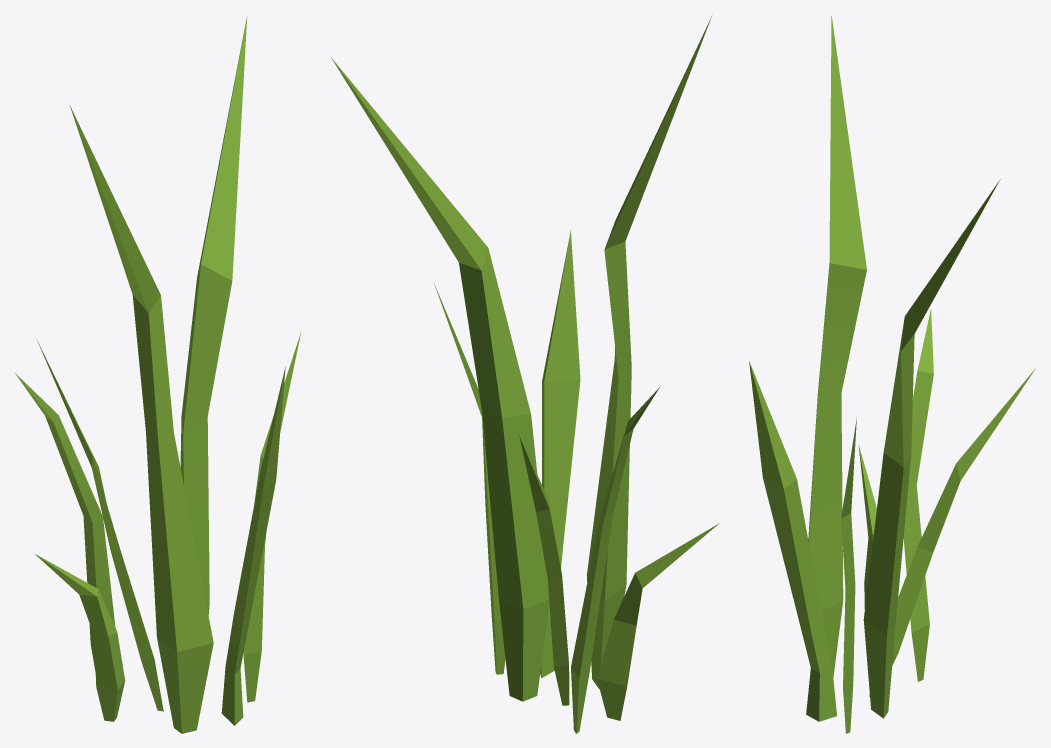
The model's file is model_polytope_long_grass01.fbx.
3 views of the same model, side by side, from view 1: azimuth 30°, elevation 25°; view 2: azimuth 150°, elevation 25°; view 3: azimuth 270°, elevation 25° (orthographic). The views are drawn at different scales.
Parts seen in each view (by area): view 1: model_polytope_long_grass01; view 2: model_polytope_long_grass01; view 3: model_polytope_long_grass01.
Boxes of the visible parts, bbox=[...] form: model_polytope_long_grass01: bbox=[15, 15, 301, 733]; model_polytope_long_grass01: bbox=[331, 16, 719, 733]; model_polytope_long_grass01: bbox=[749, 16, 1035, 733].
Bounding box in the file's own units: 46.8 × 101 × 42.
